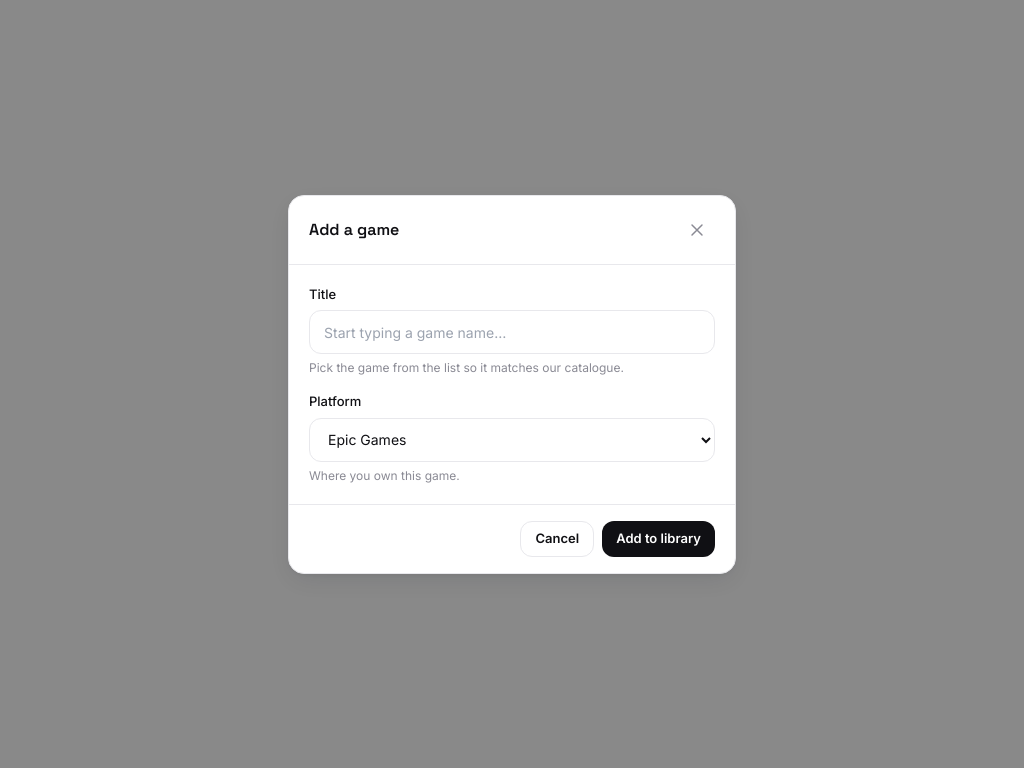
it: AddGameModal: duplicate entry prevented (TM11-54) › says the game is already owned and stays open
Type "hades" into the dropdown labelled "Title" at (512,332), box [309,310,715,354]
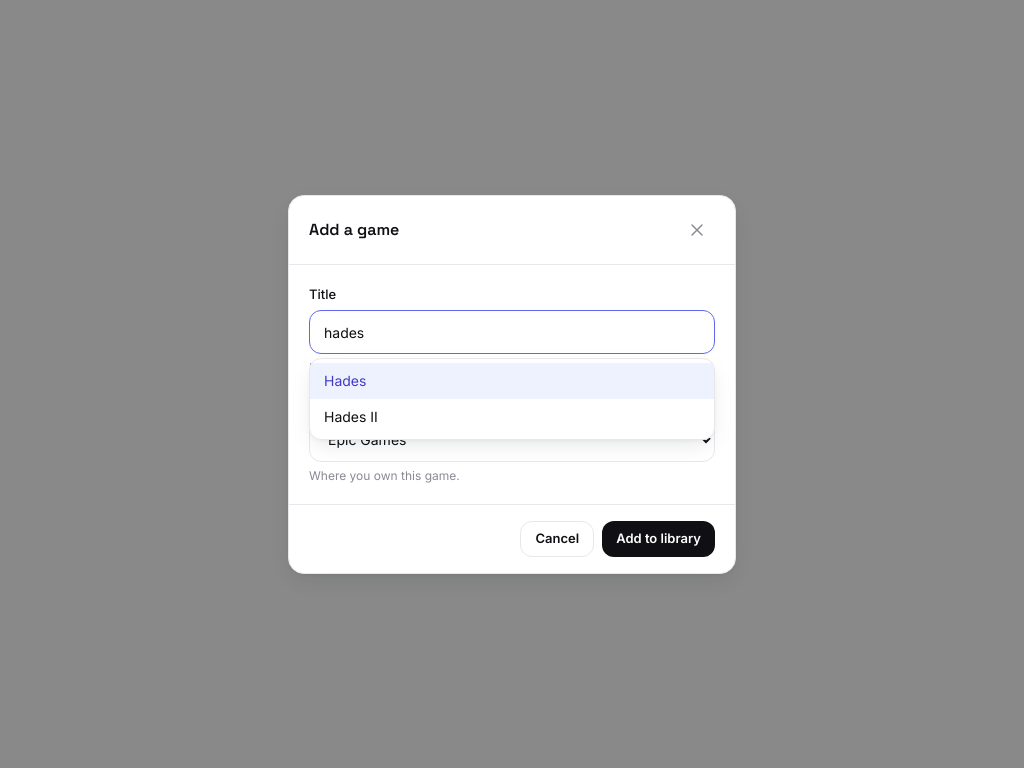
Click the option "Hades" at (345,380), box [310,363,714,399]
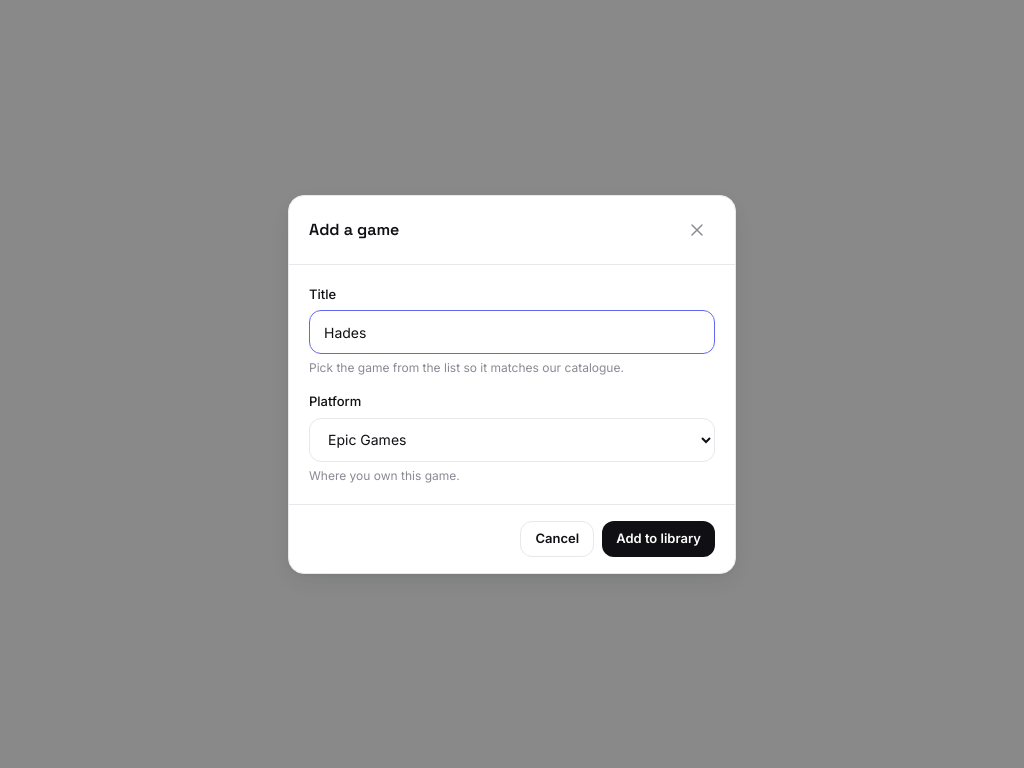
Click the button "Add to library" at (659,538), box [602,520,715,556]
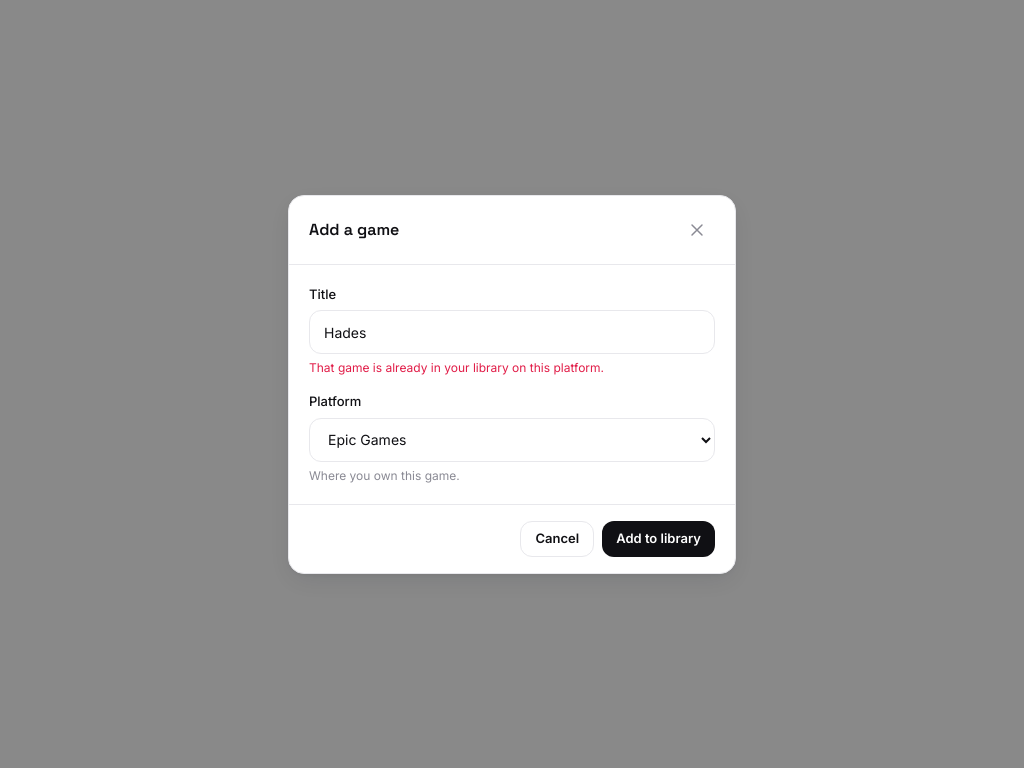
Now the text "That game is already in your library on this platform." is shown, box [309,360,604,375]
